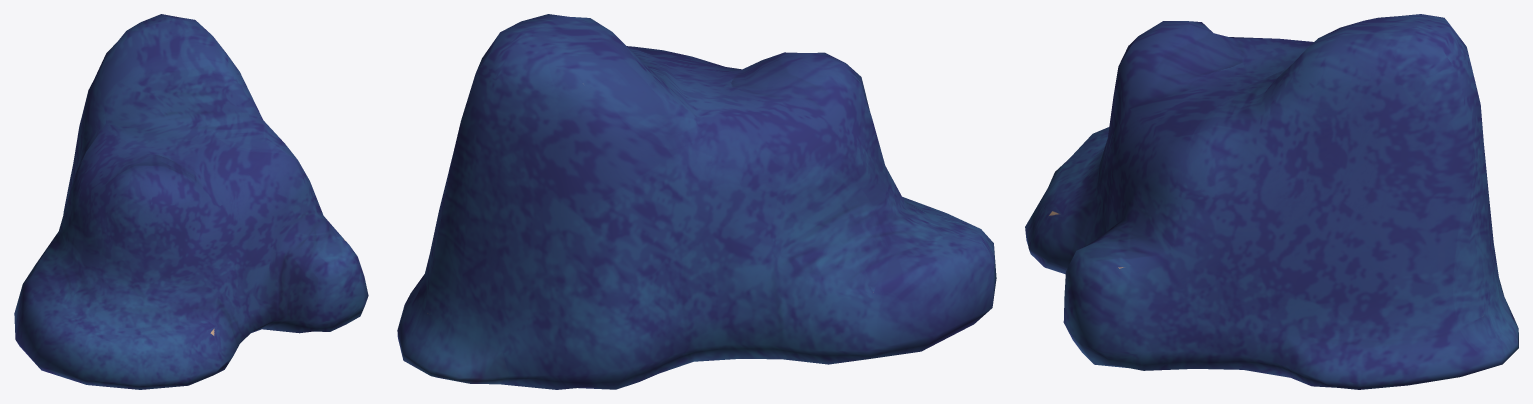
Rendered from roca2.FBX.
The picture shows the model from 3 angles, left to right: view 1: azimuth 30°, elevation 25°; view 2: azimuth 150°, elevation 25°; view 3: azimuth 270°, elevation 25°; orthographic projection. The views are drawn at different scales.
Parts seen in each view (by area): view 1: Roca2; view 2: Roca2; view 3: Roca2.
Boxes of the visible parts, x1=… form: Roca2: x1=14, y1=14, x2=368, y2=389; Roca2: x1=397, y1=14, x2=996, y2=389; Roca2: x1=1025, y1=14, x2=1518, y2=389.
Size of the model in its own units: 158 by 152 by 103.
